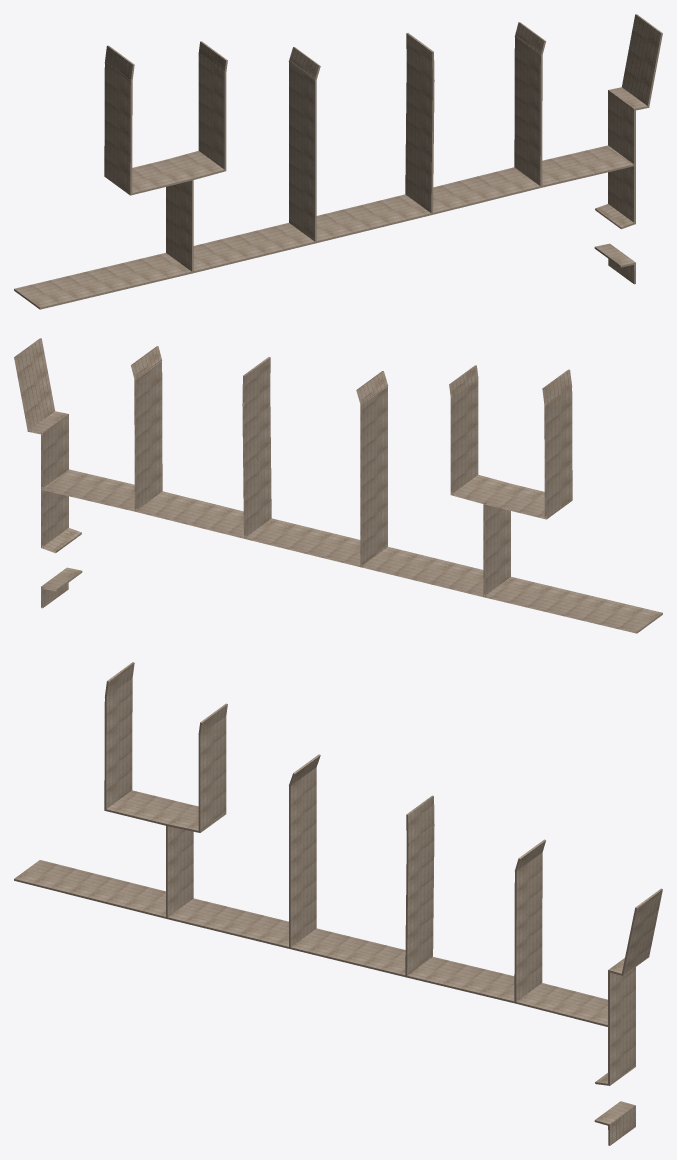
Rendered from wall_6.obj.
3 views of the same model, one above another, from view 1: azimuth 30°, elevation 25°; view 2: azimuth 150°, elevation 25°; view 3: azimuth 330°, elevation 25° (orthographic).
Visible parts, largest first — view 1: walls; view 2: walls; view 3: walls.
Part boxes in pixels (x1=…): walls: x1=14, y1=14, x2=662, y2=309; walls: x1=14, y1=338, x2=662, y2=633; walls: x1=14, y1=662, x2=662, y2=1145.
Bounding box in the file's own units: 34.6 × 18.15 × 2.5.
Materials: 1 (1 with a texture image).
